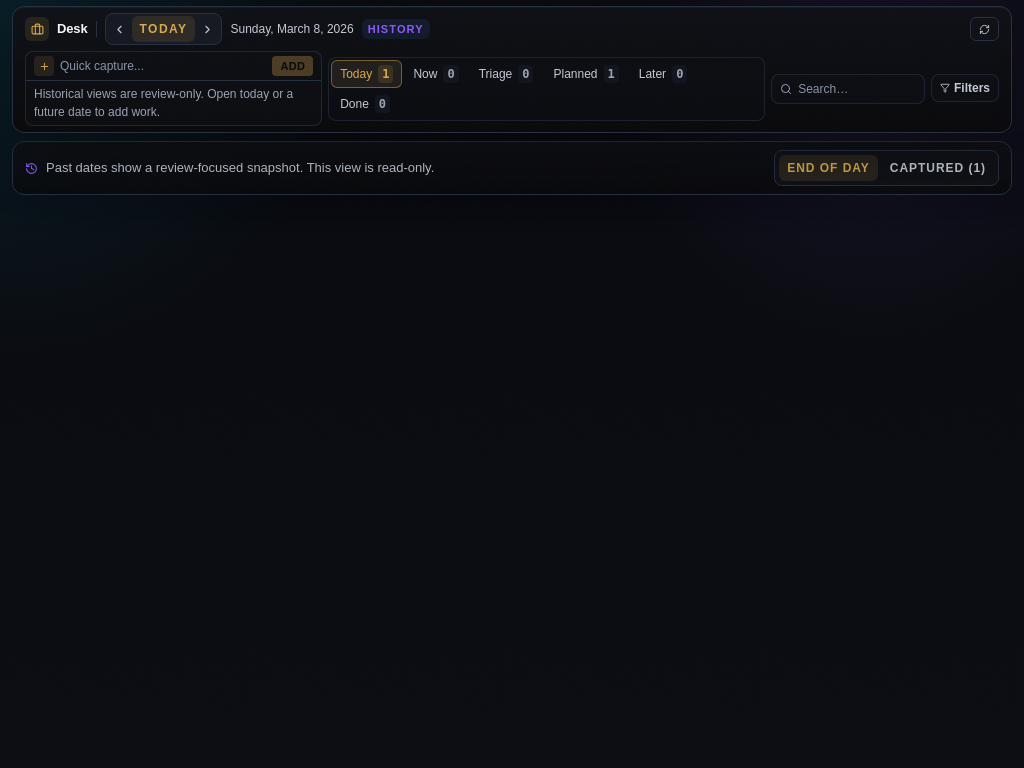
Scenario: ManagerDeskPage › switches historical subviews between end-of-day and captured-that-day lists
Click the button "Captured (1)" at (938, 168), box [882,155,994,181]
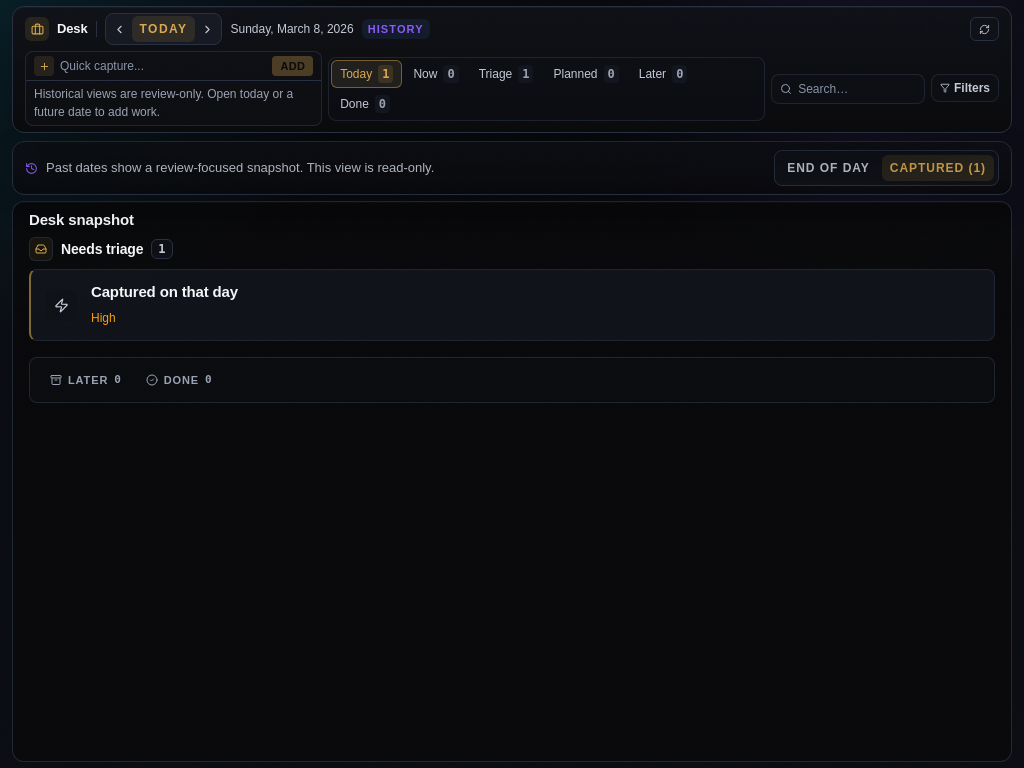
Result: the text "Captured on that day" is shown at [91,282,238,302]
